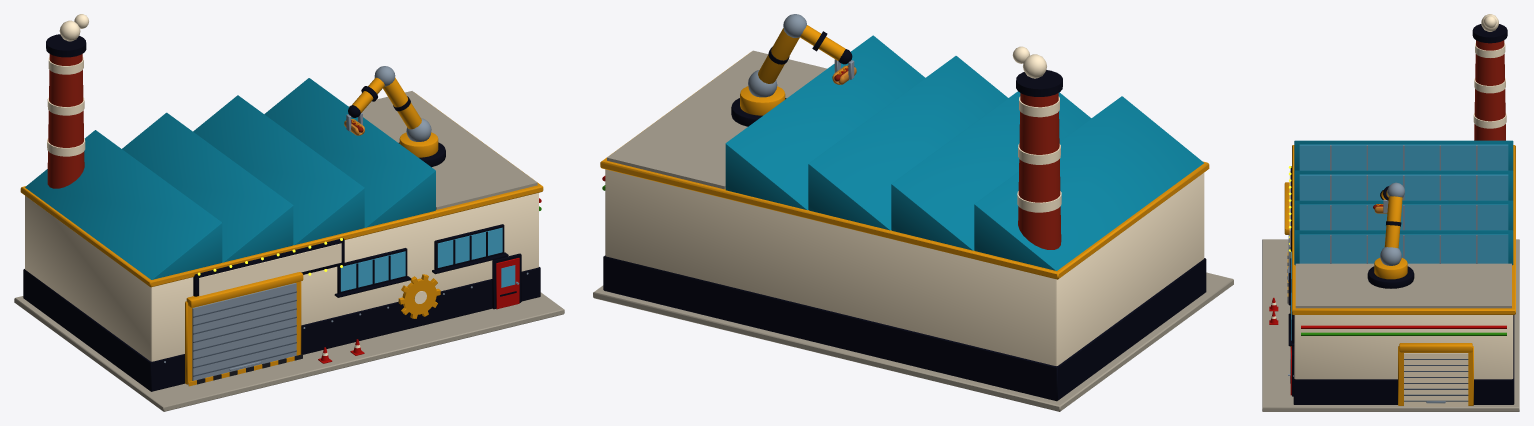
The model's file is RoboticsFactory.fbx.
3 renders of one model, left to right at view 1: azimuth 30°, elevation 25°; view 2: azimuth 150°, elevation 25°; view 3: azimuth 270°, elevation 25°, orthographic. The views are drawn at different scales.
Parts seen in each view (by area): view 1: RoboticsFactory; view 2: RoboticsFactory; view 3: RoboticsFactory.
Boxes of the visible parts, x1,y1,x2,y2 form: RoboticsFactory: (14, 14, 564, 411); RoboticsFactory: (593, 14, 1233, 411); RoboticsFactory: (1262, 14, 1519, 411).
Size of the model in its own units: 31.25 by 21.3 by 20.
